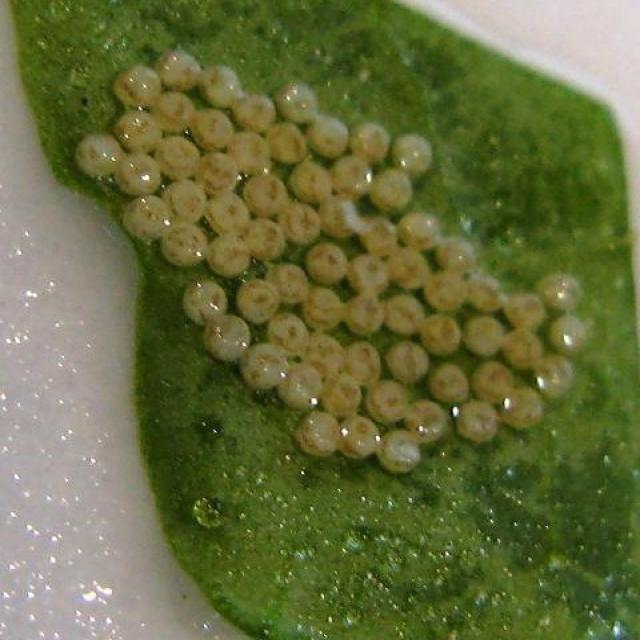army worm: (59, 51, 599, 482)
